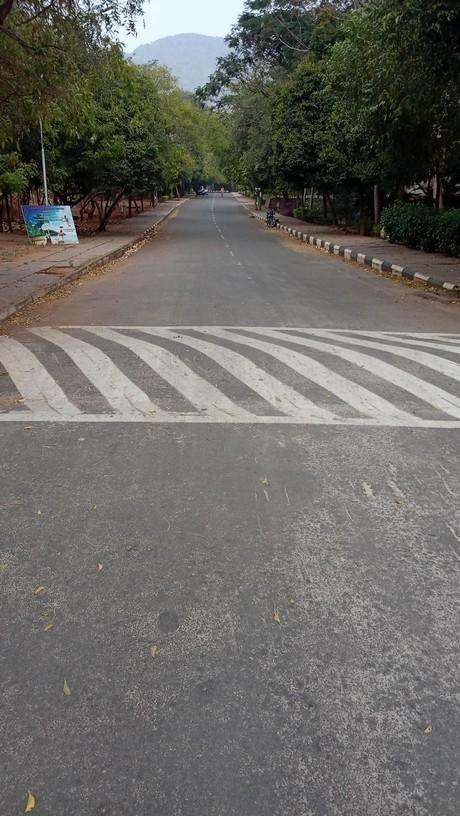speedbreaker: (0, 326, 460, 428)
